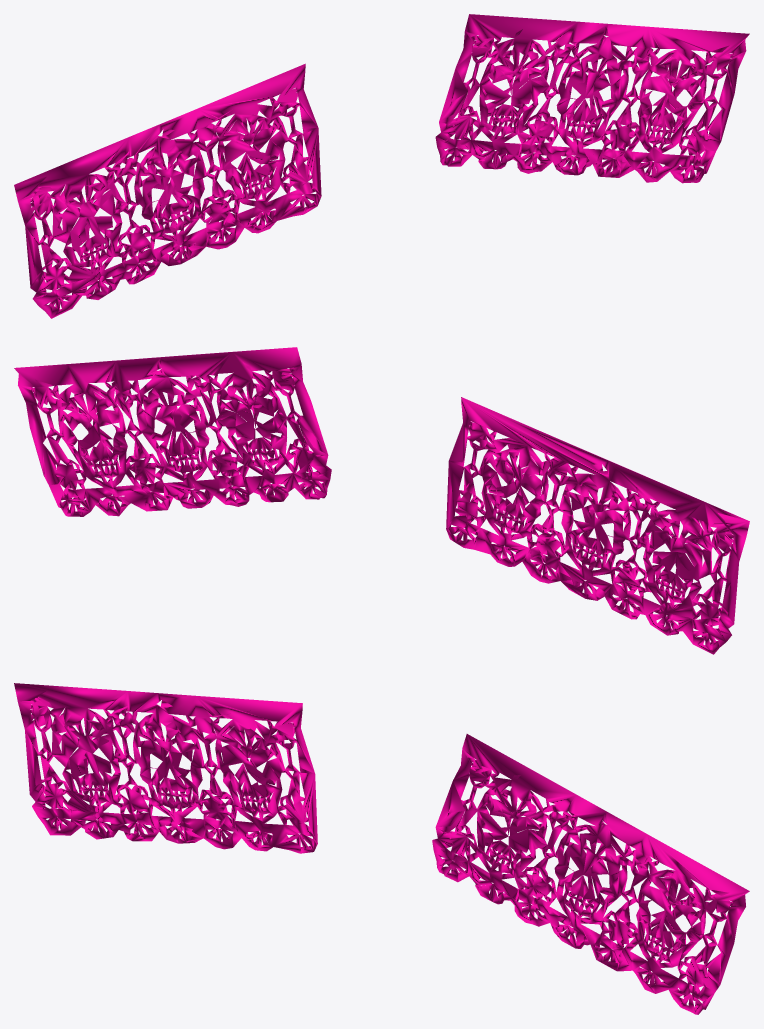
The model's file is papel_fucsia.obj.
The picture shows the model from 3 angles, top to bottom: view 1: azimuth 30°, elevation 25°; view 2: azimuth 150°, elevation 25°; view 3: azimuth 330°, elevation 25°; orthographic projection.
Visible parts, largest first — view 1: papel_fucsia; view 2: papel_fucsia; view 3: papel_fucsia.
Boxes of the visible parts, box(x1,y1,x2,y2) form: papel_fucsia: box(14, 14, 749, 318); papel_fucsia: box(14, 347, 749, 654); papel_fucsia: box(14, 683, 749, 1014).
Bounding box in the file's own units: 1.94 × 0.5663 × 0.0111.
Materials: 1 (1 with a texture image).
